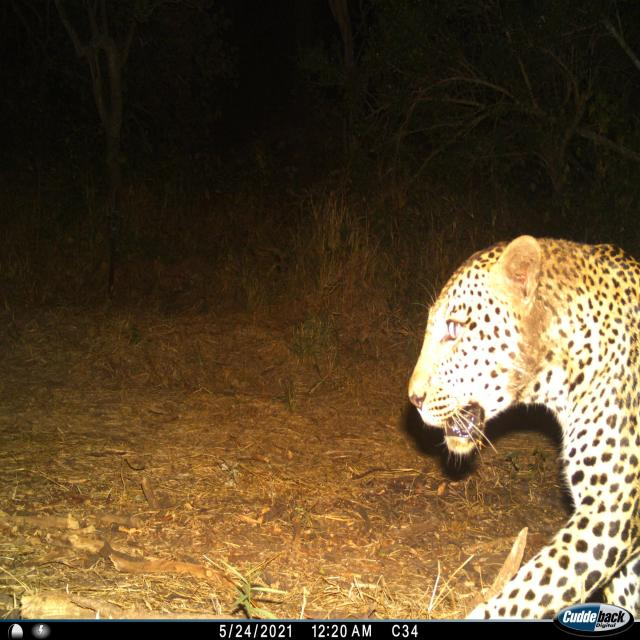Leopard: (402, 228, 638, 625)
